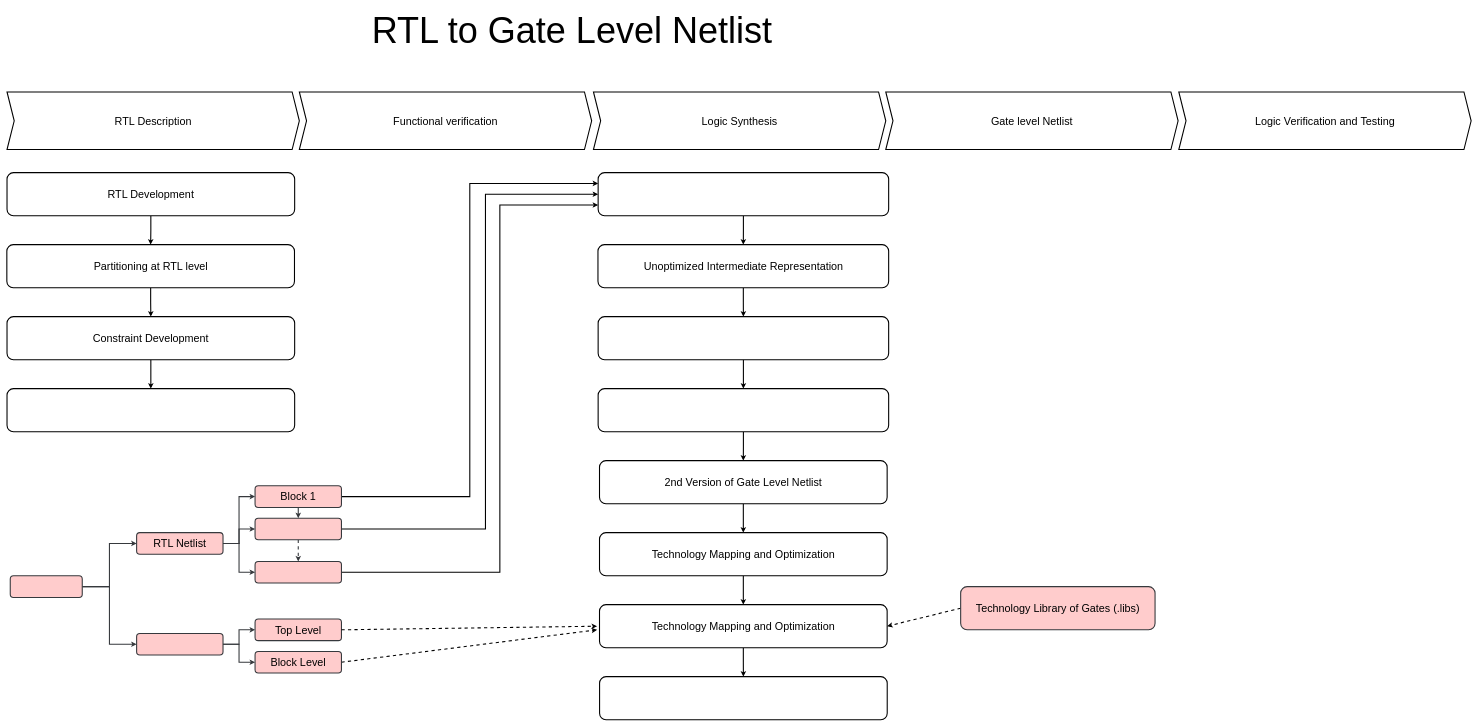
Image size: 1478x726. Some labels were removed from this diagram. Here are the shapes that lost their labels. From the top down, the centre of each, then its label:
[743,194]: Translation
[743,338]: Initial Level of Gate level Netlist
[150,410]: RTL Integration & Constraint checking
[743,410]: Logic Optimization
[298,529]: Block 2
[46,586]: Output
[298,572]: Block n
[179,644]: Constraint
[743,698]: Optimized Gate Level Netlist
